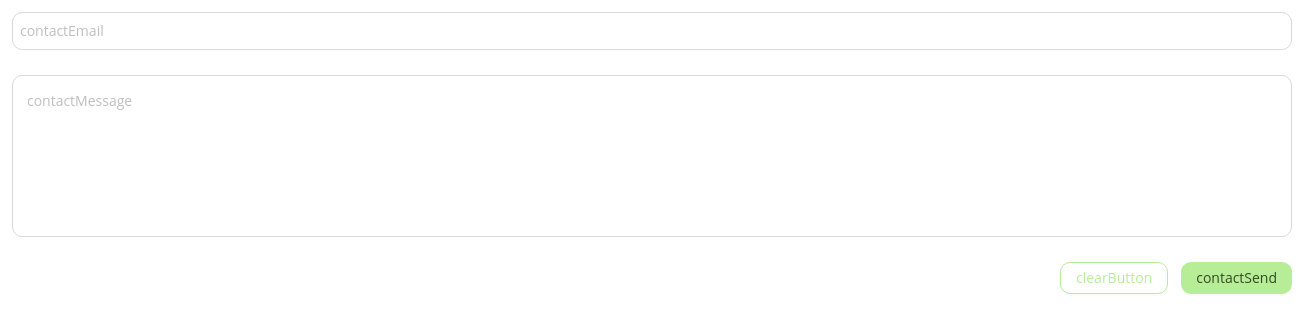
Test: ContactForm › should send contact and return success message
In the field with placeholder "contactEmail": point(652, 31) [12,12,1292,50], type "jacek@placek.com"
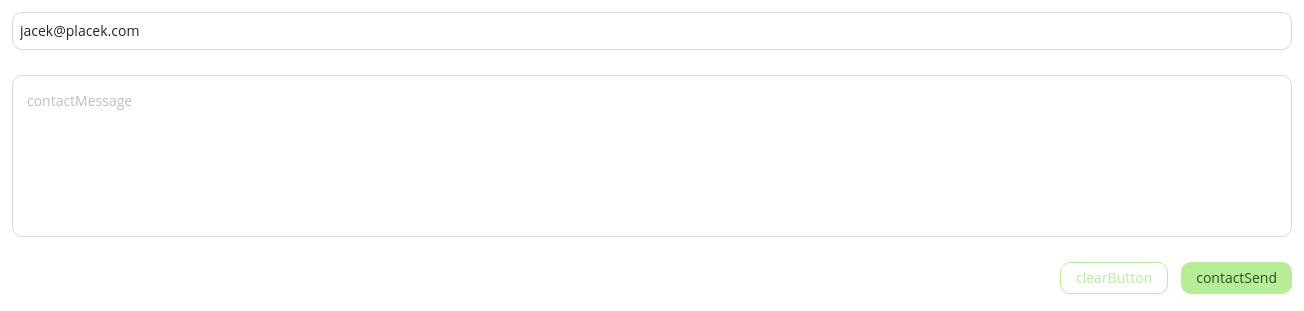
In the text box with placeholder "contactMessage": point(652, 156) [20,83,1284,229], type "sample message"
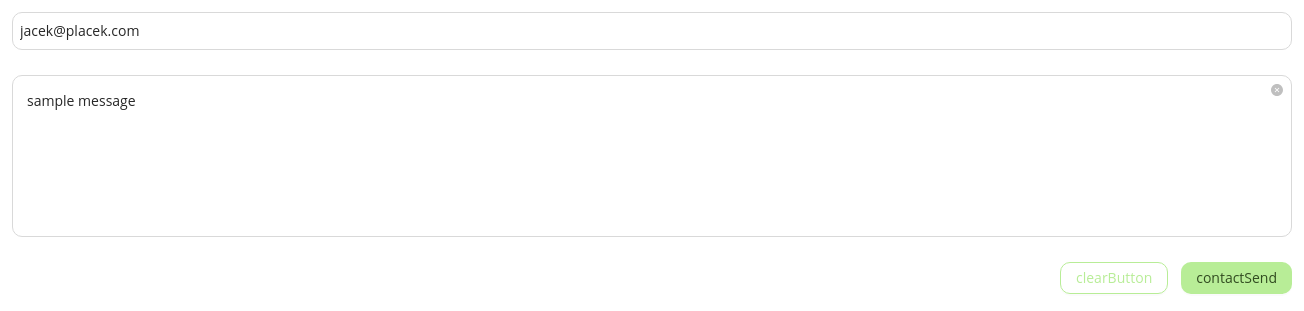
Click the button "contactSend": point(1237, 278) [1181,262,1292,294]
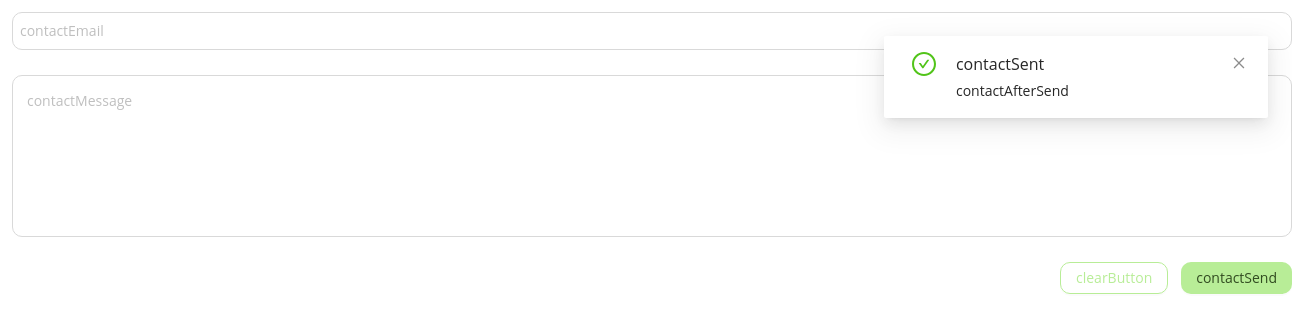
Check: the text "contactSent" is shown, box [956,53,1044,75]
